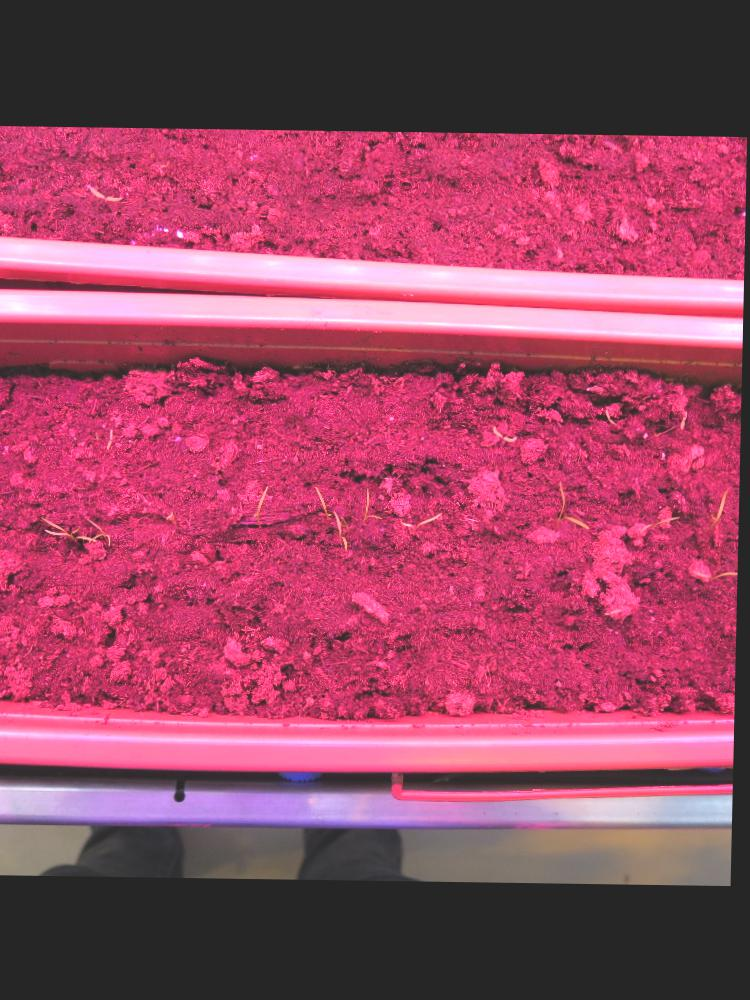weed: (86, 186, 126, 202), (490, 424, 521, 442), (104, 428, 117, 451)
